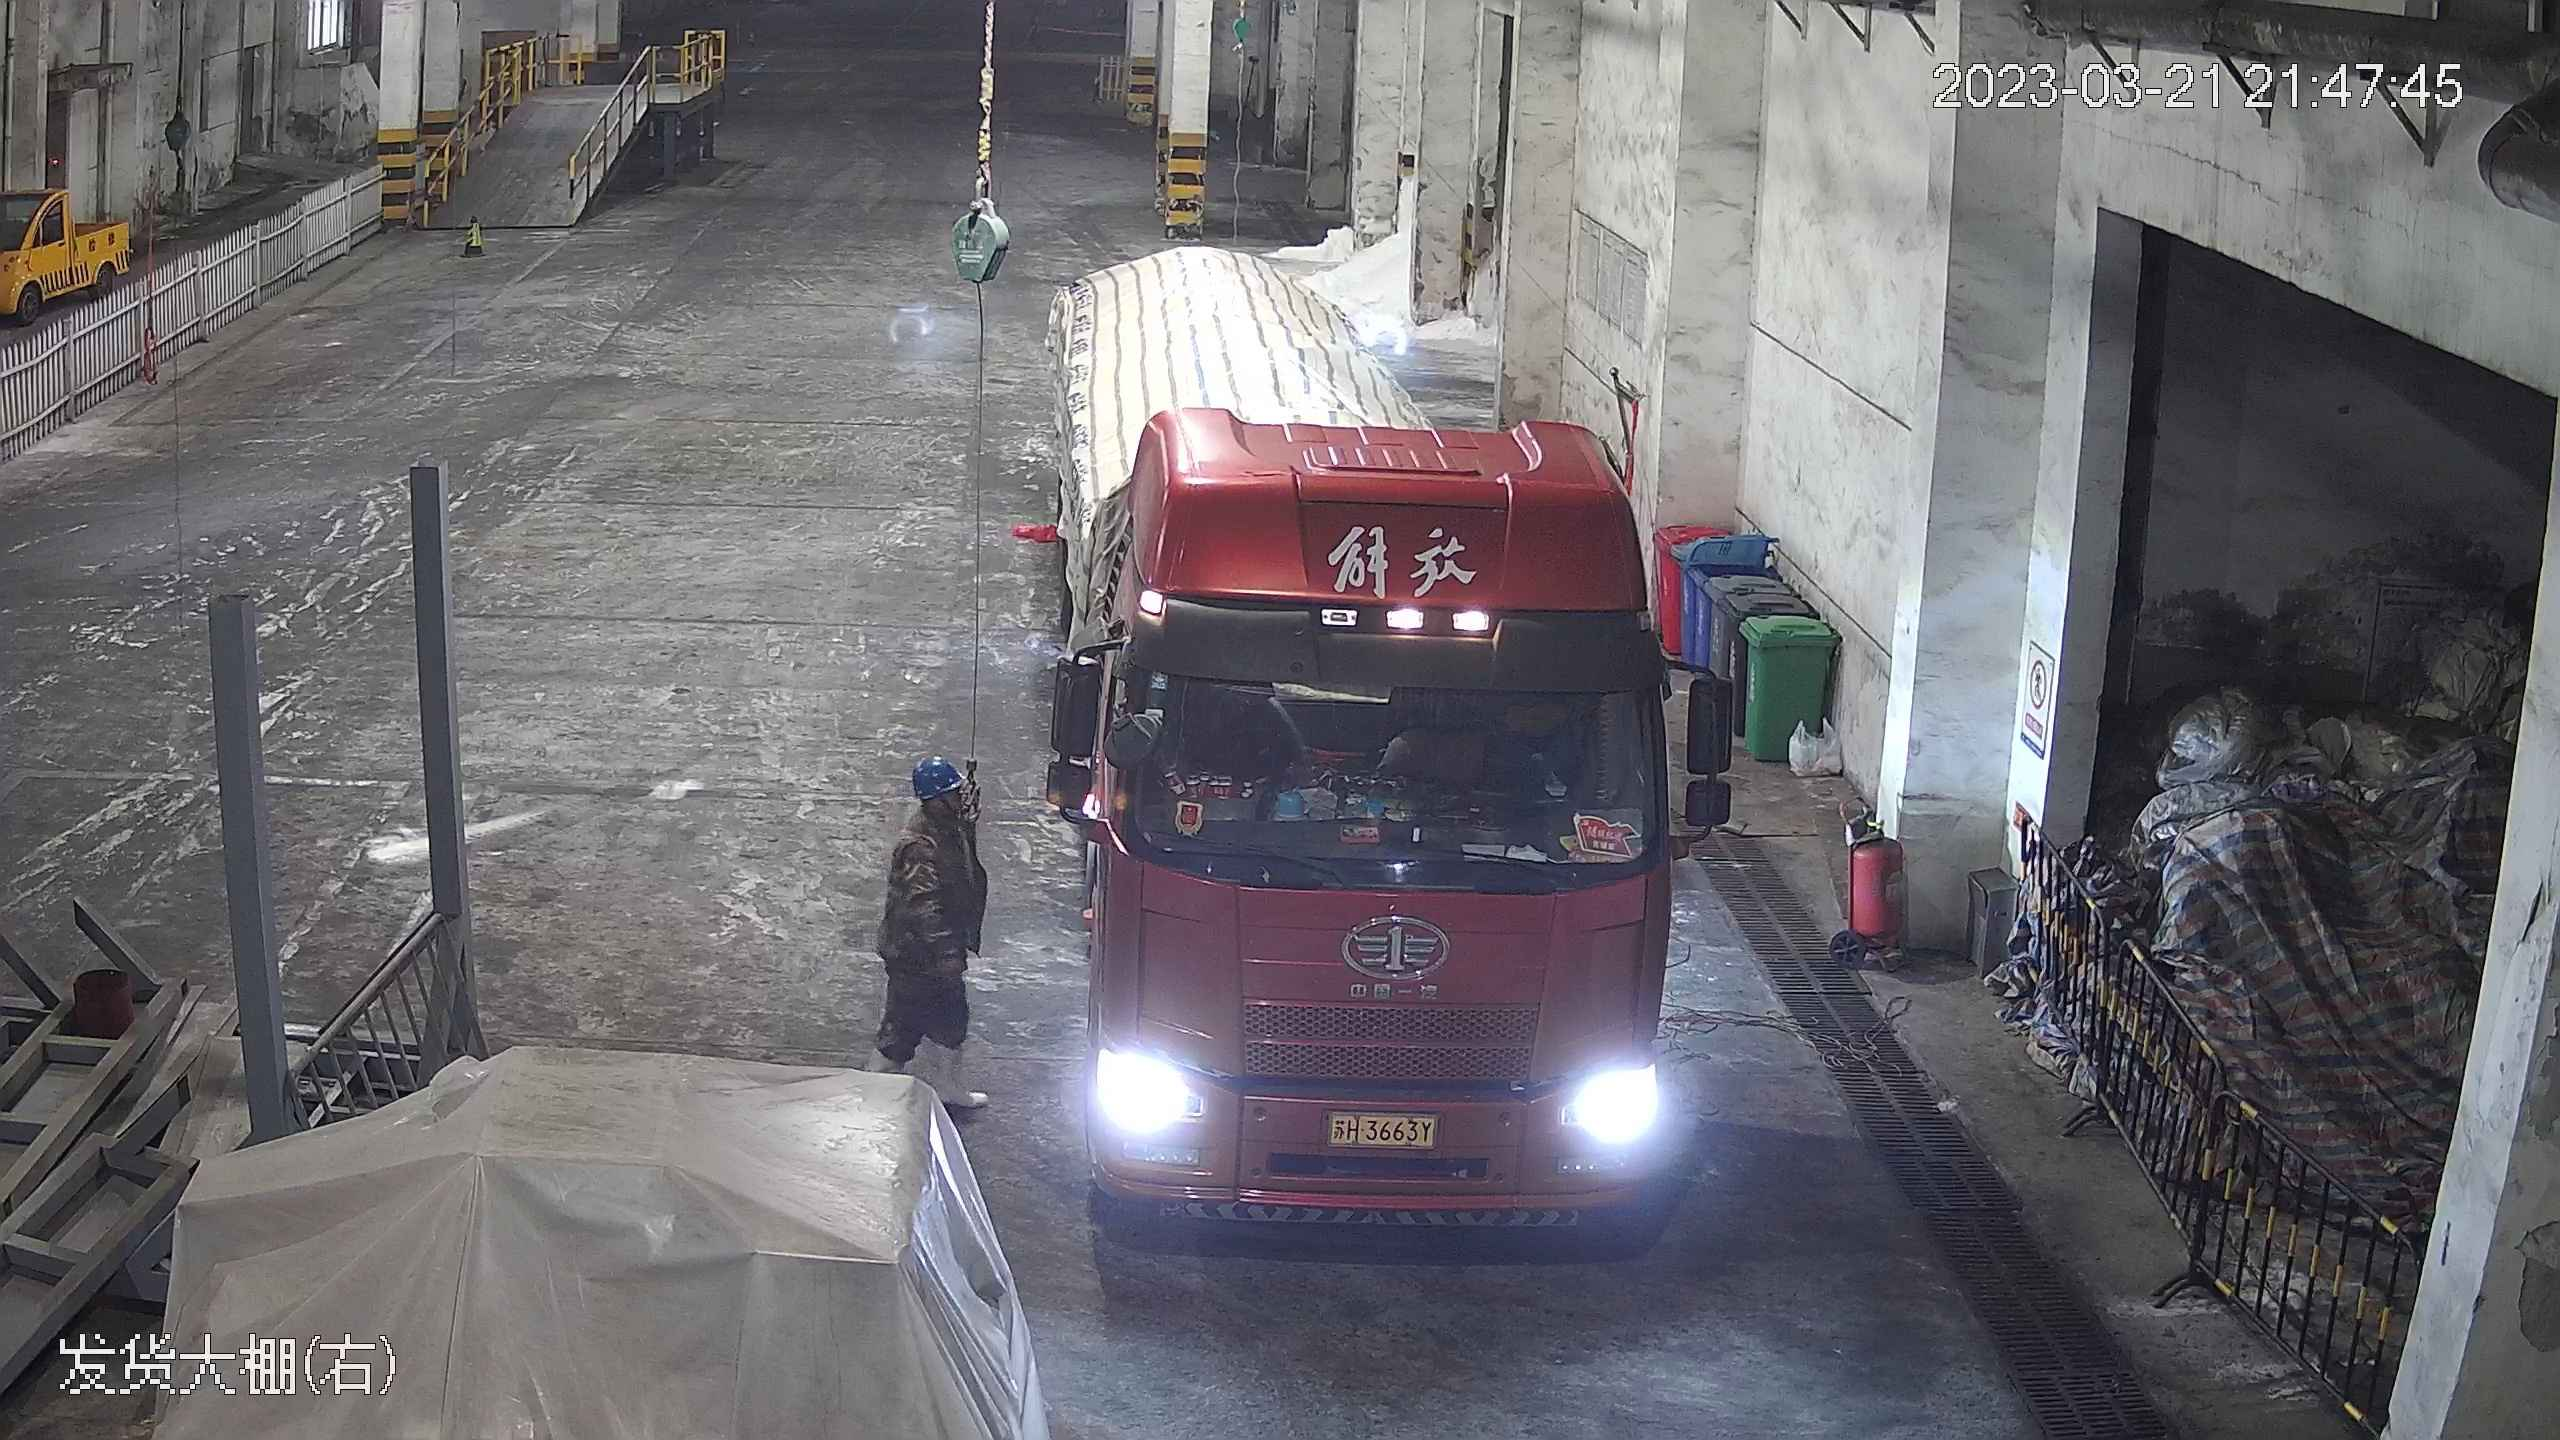head: (889, 747, 982, 871)
helmet: (909, 748, 966, 797)
people: (873, 745, 986, 1079)
truck: (1033, 34, 1702, 1232)
